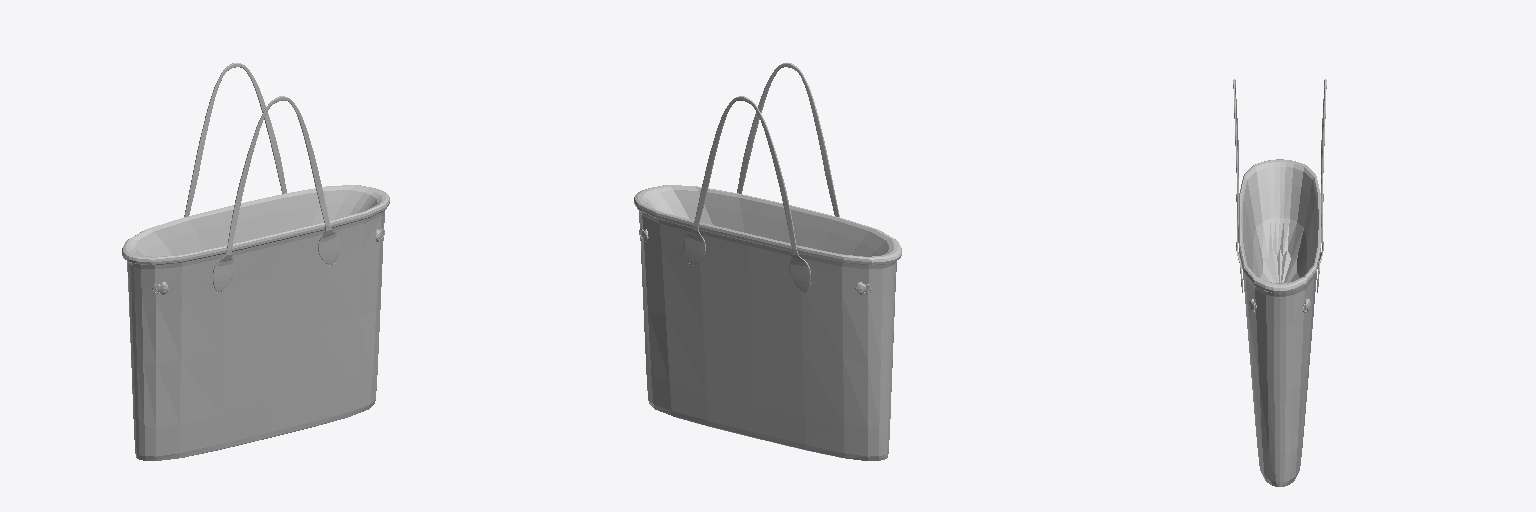
File: Bolso.obj
The picture shows the model from 3 angles: view 1: azimuth 30°, elevation 25°; view 2: azimuth 150°, elevation 25°; view 3: azimuth 270°, elevation 25°; orthographic projection.
Visible parts, largest first — view 1: Bolso; view 2: Bolso; view 3: Bolso.
Boxes of the visible parts, box(x1,y1,x2,y2) form: Bolso: box(122, 63, 389, 460); Bolso: box(634, 63, 901, 460); Bolso: box(1233, 79, 1326, 486).
Size of the model in its own units: 9.47 by 12.14 by 2.93.